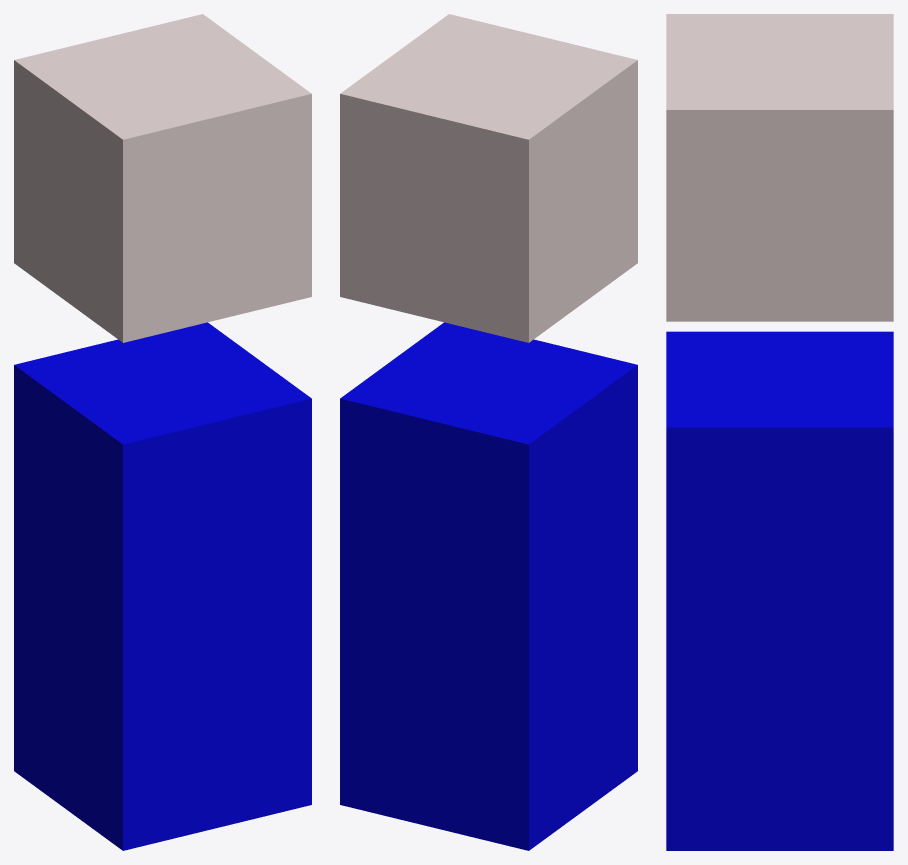
The model's file is IcecreamChildC.fbx.
3 renders of one model, left to right at view 1: azimuth 30°, elevation 25°; view 2: azimuth 150°, elevation 25°; view 3: azimuth 270°, elevation 25°, orthographic. The views are drawn at different scales.
Visible parts, largest first — view 1: IcecreamChildC; view 2: IcecreamChildC; view 3: IcecreamChildC.
Boxes of the visible parts, box(x1,y1,x2,y2) form: IcecreamChildC: box(14, 14, 311, 850); IcecreamChildC: box(340, 14, 637, 850); IcecreamChildC: box(666, 14, 893, 850).
Size of the model in its own units: 25 by 90 by 25.
